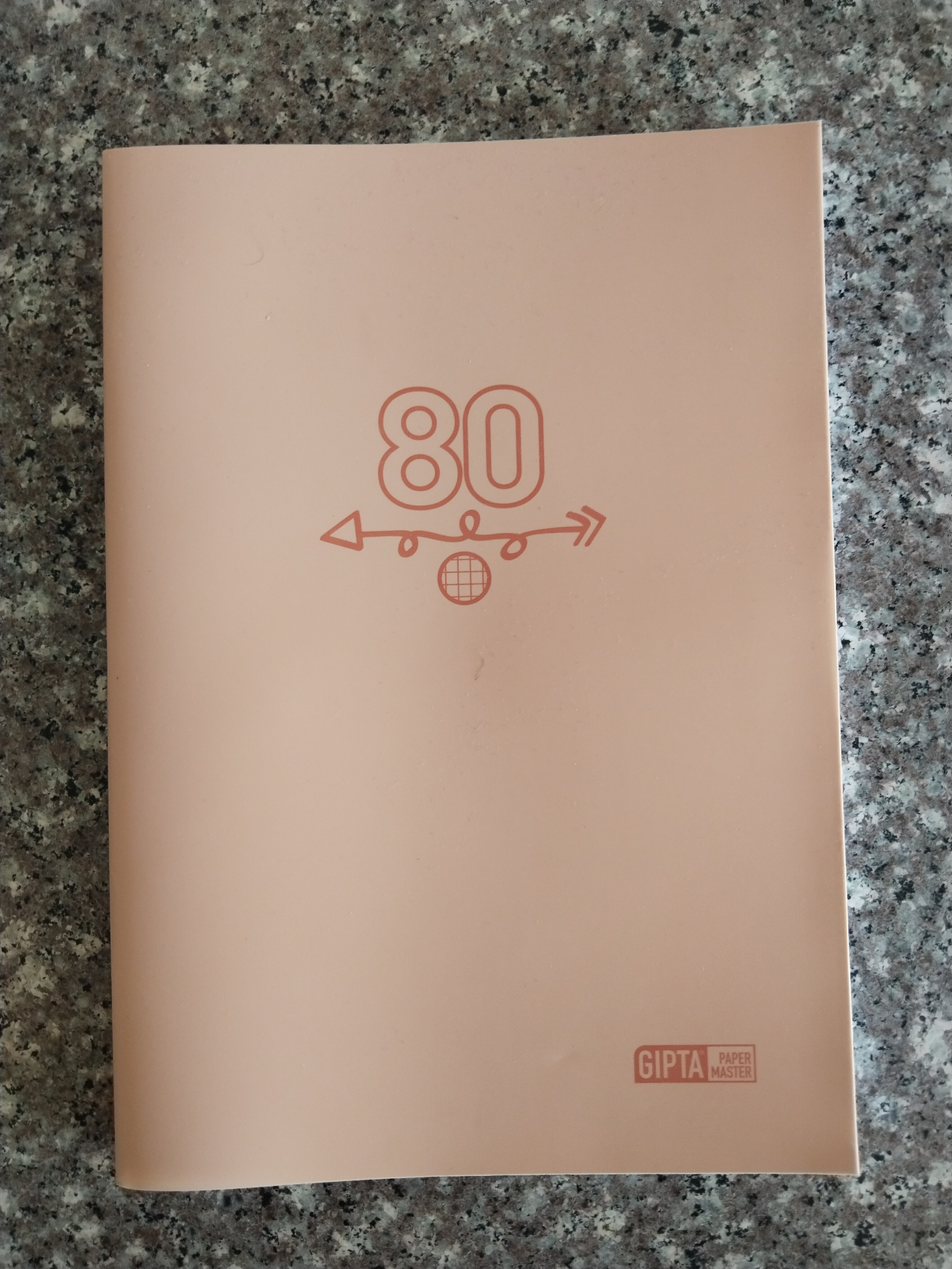80_sayfa_gipta_defter: (103, 137, 851, 1176)
